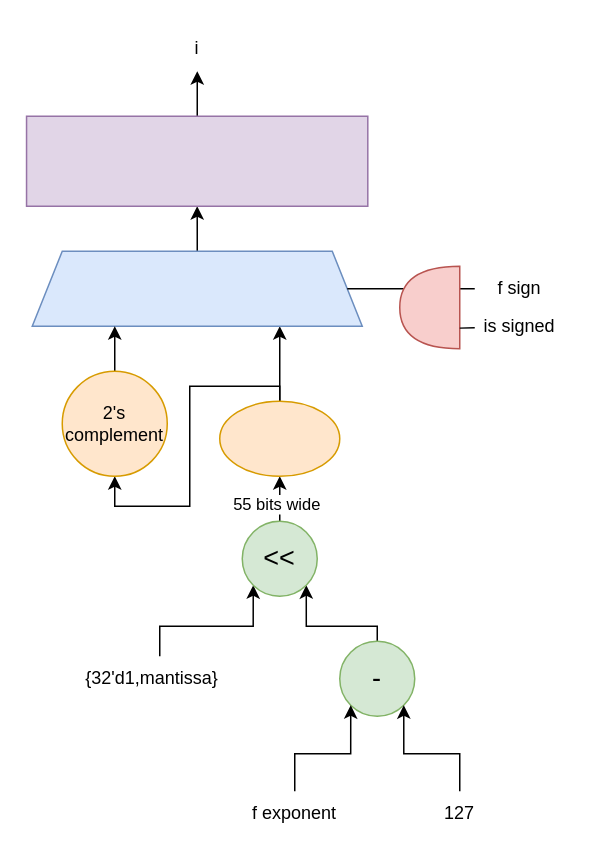
This 591x861 diagram has some shape labels left out. The shapes that lost their labels are listed below. From the top down, each one's centre as x and y in pixels, then its label:
the point at 196,160: output handling logic
the point at 279,438: prune last 23 bits
